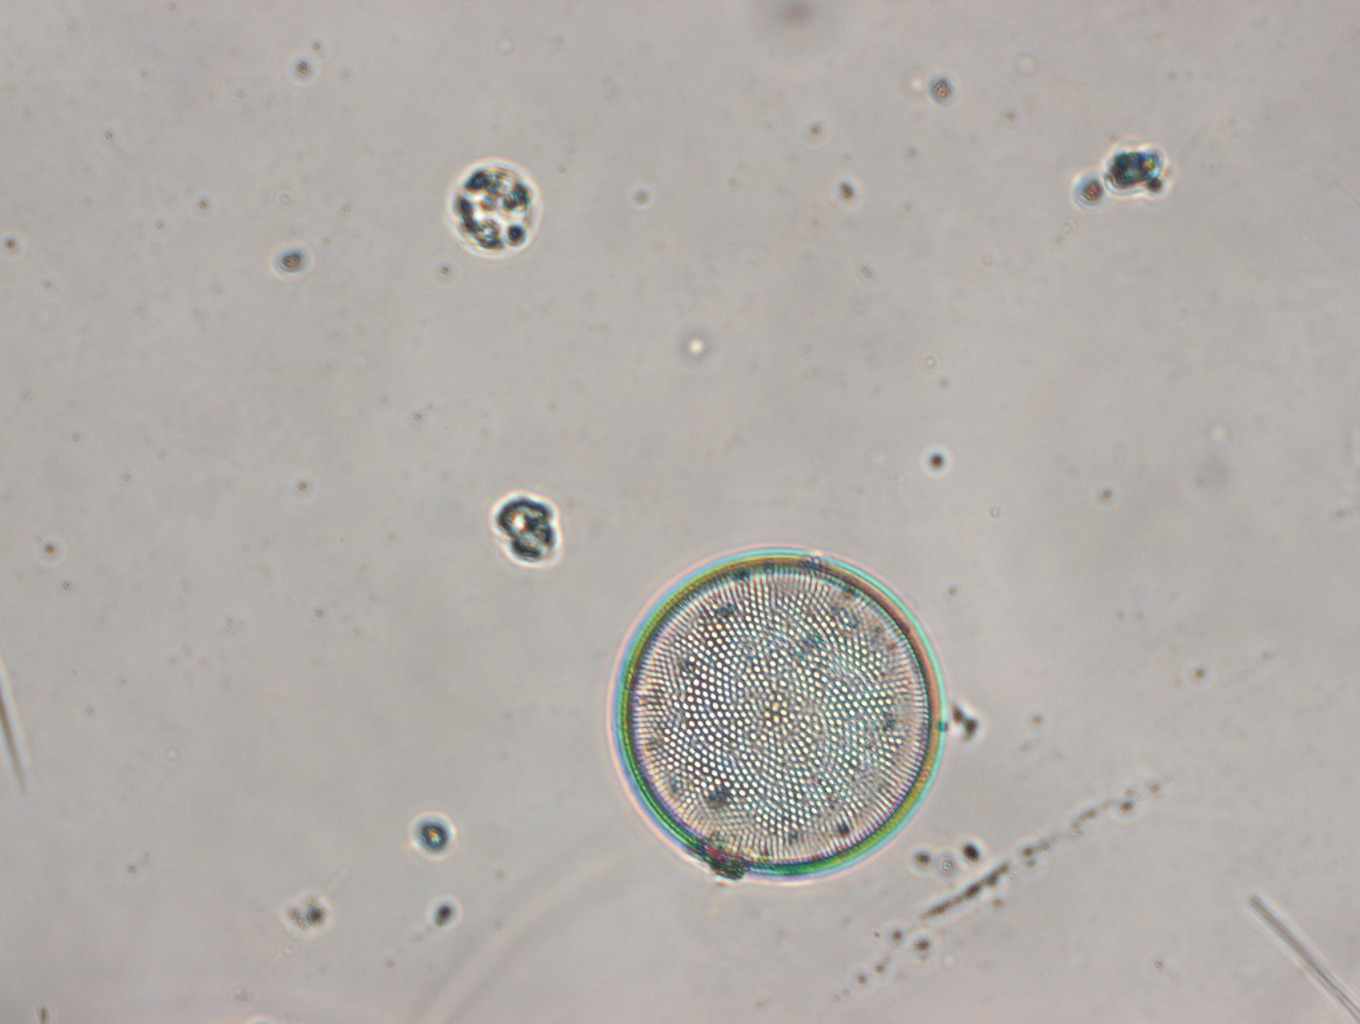coscinodiscus: (609, 546, 942, 881)
